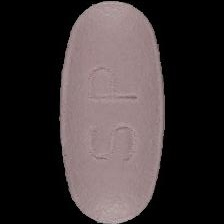54868-6077: (0, 0, 224, 224)
